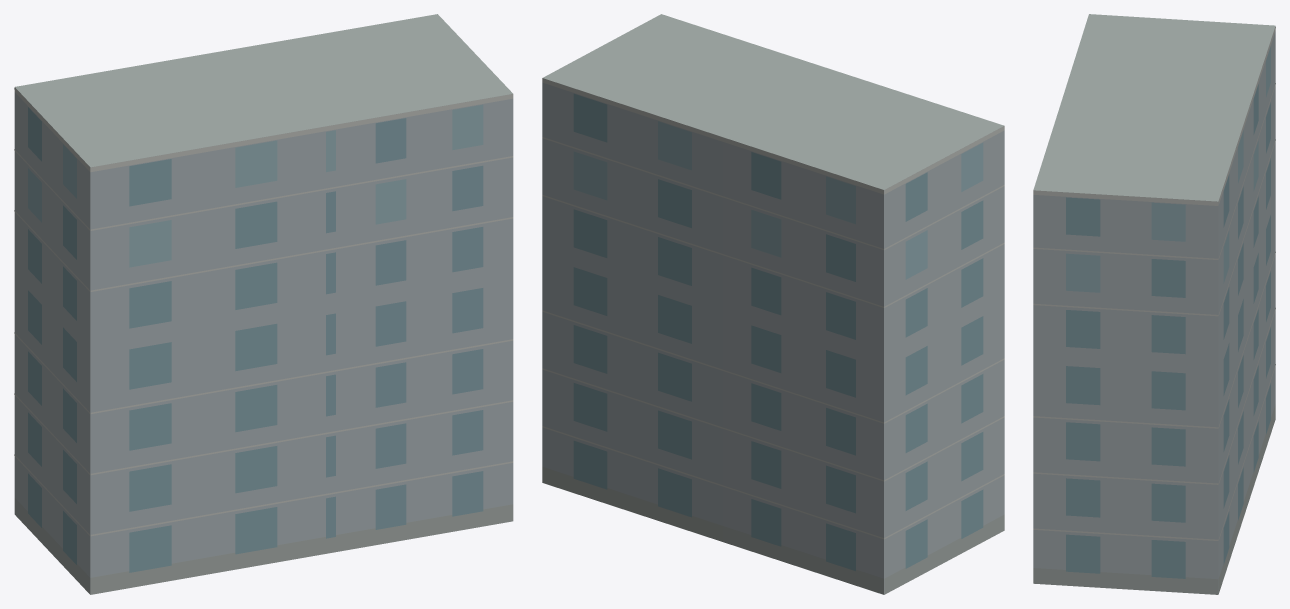
File: residential-ae52d0af-3b9c-4f9e-ba38-5db32f7245fe.glb
The picture shows the model from 3 angles, left to right: view 1: azimuth 30°, elevation 25°; view 2: azimuth 150°, elevation 25°; view 3: azimuth 270°, elevation 25°; orthographic projection. The views are drawn at different scales.
Visible parts, largest first — view 1: residential-ae52d0af-3b9c-4f9e-ba38-5db32f7245fe.tmp; view 2: residential-ae52d0af-3b9c-4f9e-ba38-5db32f7245fe.tmp; view 3: residential-ae52d0af-3b9c-4f9e-ba38-5db32f7245fe.tmp.
Part boxes in pixels (x1,y1,x2,y2): residential-ae52d0af-3b9c-4f9e-ba38-5db32f7245fe.tmp: (14, 14, 513, 594); residential-ae52d0af-3b9c-4f9e-ba38-5db32f7245fe.tmp: (542, 14, 1004, 594); residential-ae52d0af-3b9c-4f9e-ba38-5db32f7245fe.tmp: (1033, 14, 1275, 594).
Bounding box in the file's own units: 21.86 × 21.35 × 11.95.
